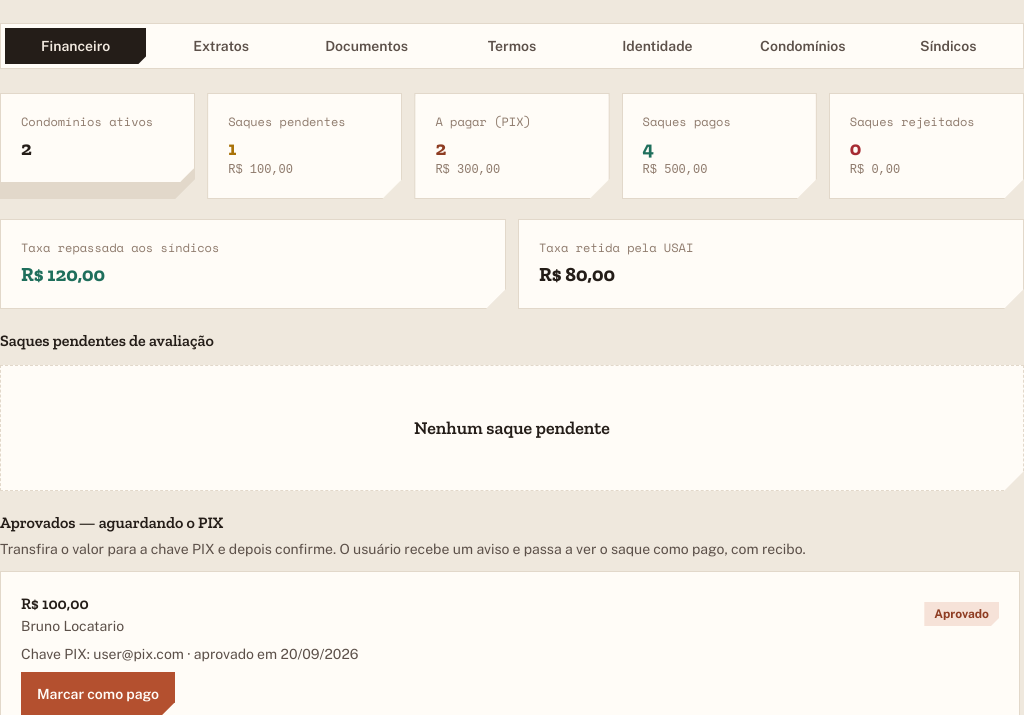
AdminPage — aba Financeiro › marcar como pago move o saque aprovado para o histórico, com o nome e a data do PIX
Click the button "Marcar como pago" at (98, 694), box left=21, top=672, right=175, bottom=714
(page scrolled)
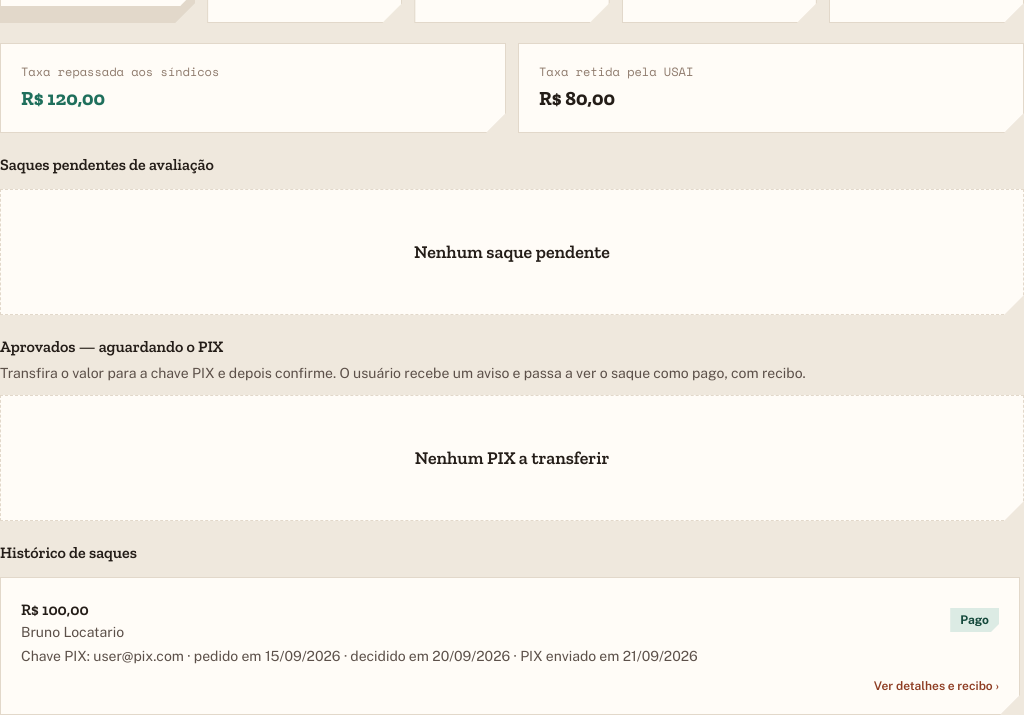
expect the text "Bruno Locatario" is shown: met, box left=21, top=622, right=124, bottom=642
expect the text "Nenhum PIX a transferir" is shown: met, box left=415, top=444, right=609, bottom=472
expect the text "PIX enviado em" is shown: met, box left=510, top=648, right=698, bottom=664
